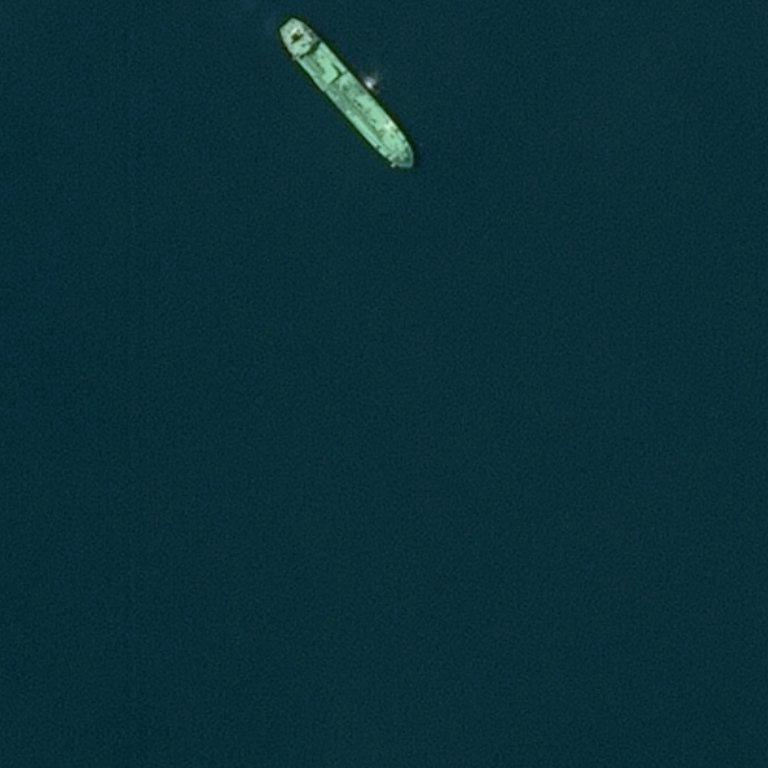ship: (315, 0, 382, 97), (399, 152, 416, 171), (60, 16, 75, 28), (279, 25, 286, 39)
